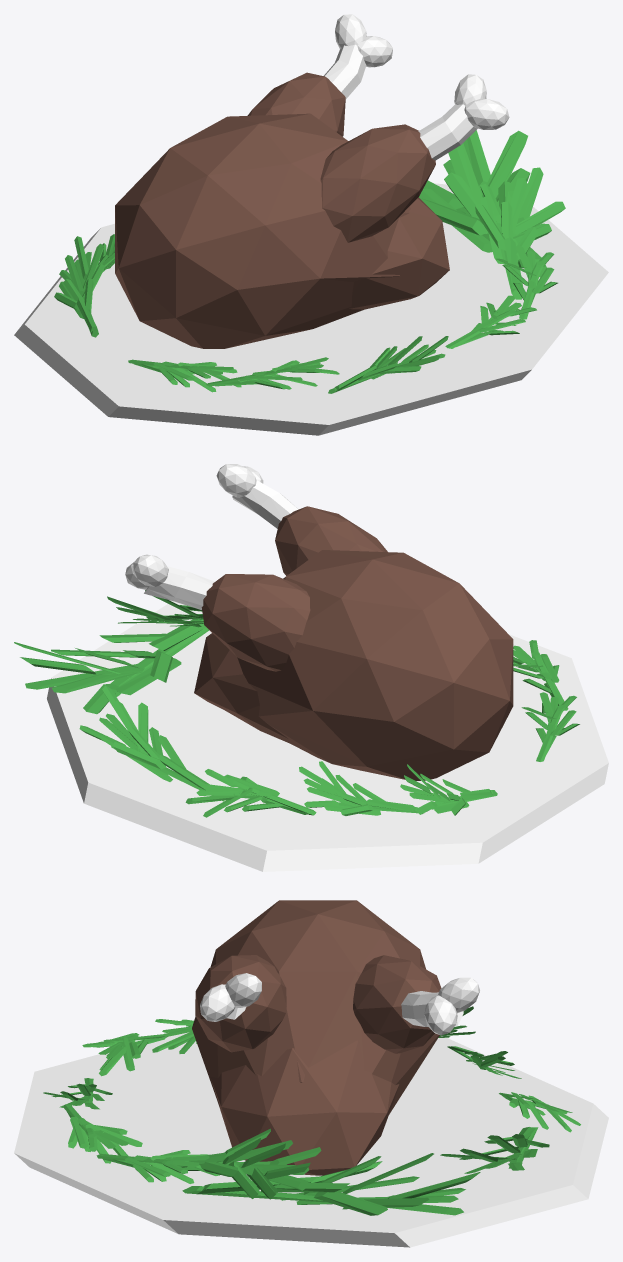
The picture shows the model from 3 angles, top to bottom: view 1: azimuth 30°, elevation 25°; view 2: azimuth 150°, elevation 25°; view 3: azimuth 270°, elevation 25°; orthographic projection. The views are drawn at different scales.
Bounding box in the file's own units: 0.3642 × 0.1677 × 0.3535.
